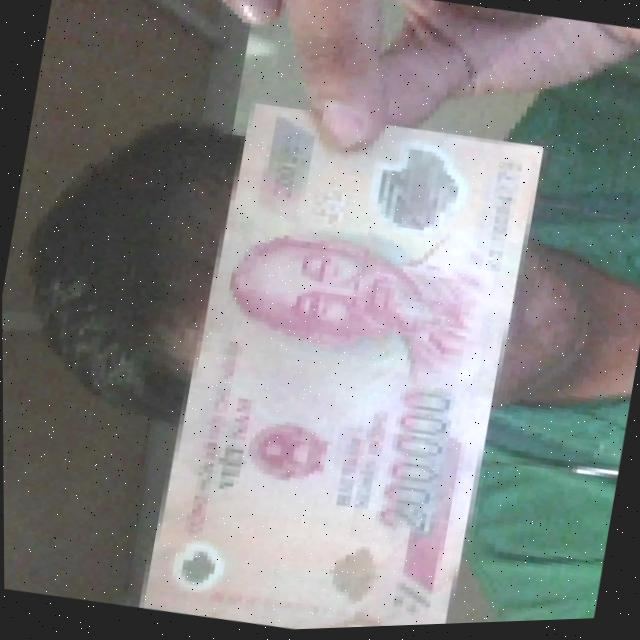200 000 VND: (120, 84, 542, 637)
